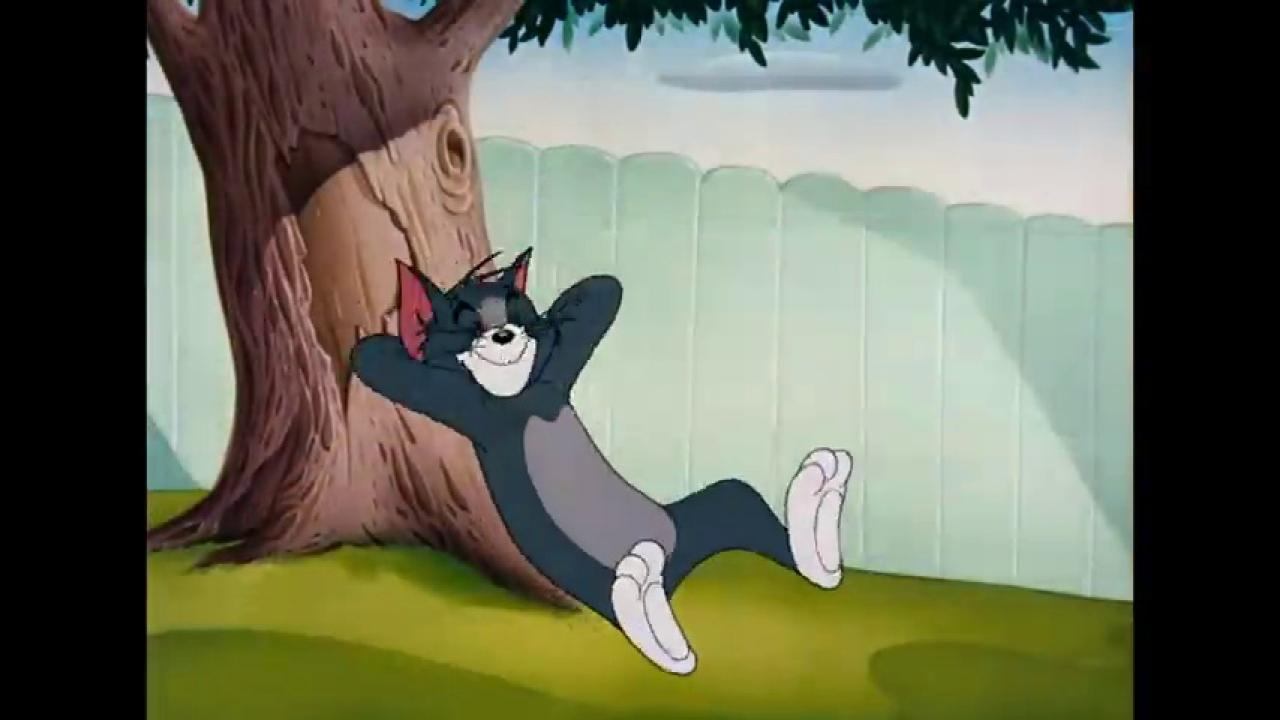Tom: (349, 242, 854, 677)
